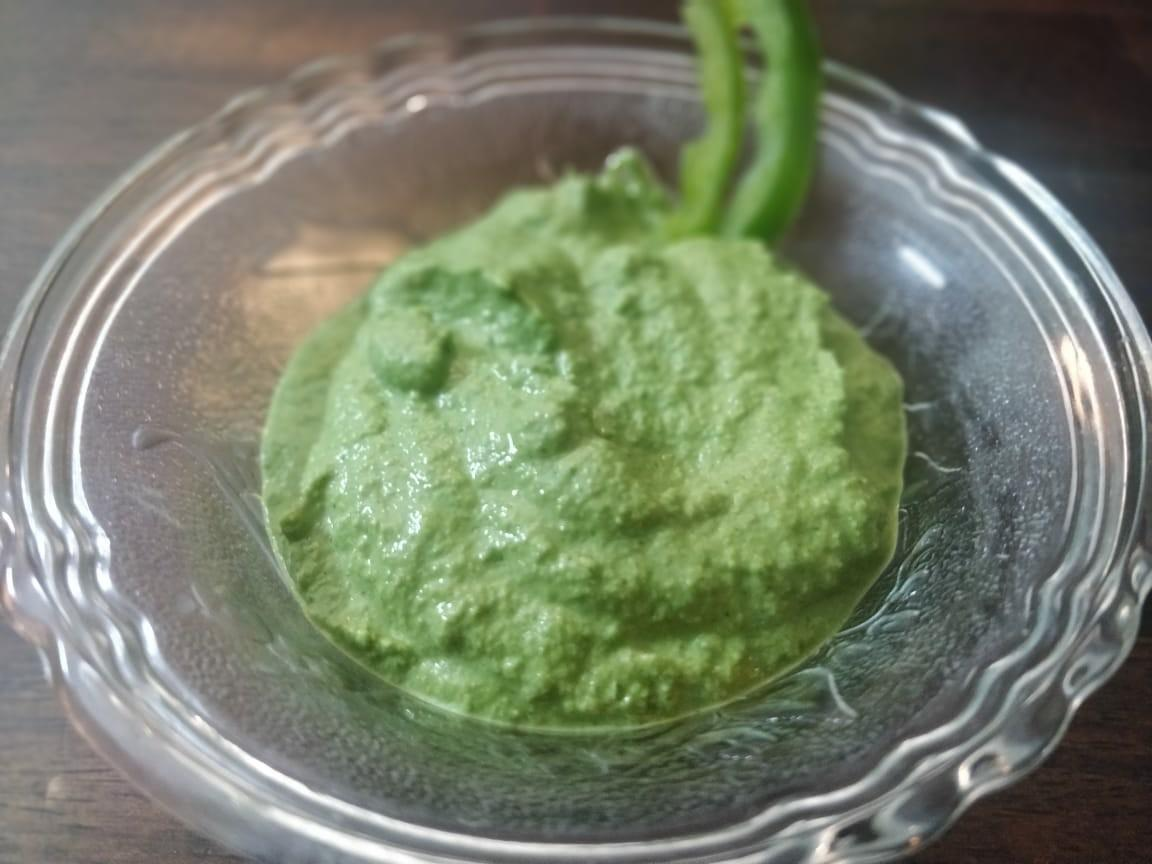GreenChutney: (260, 142, 907, 736)
